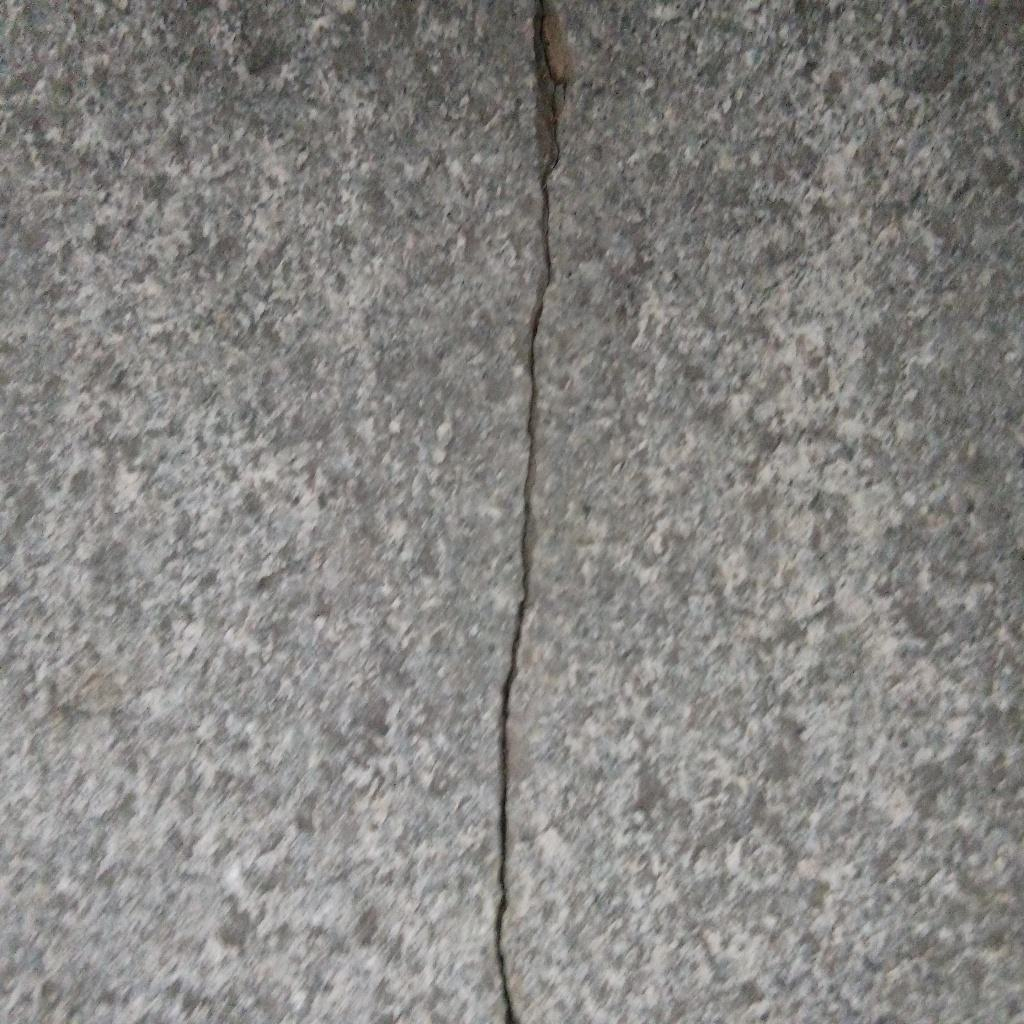Crack: (492, 1, 574, 1024)
